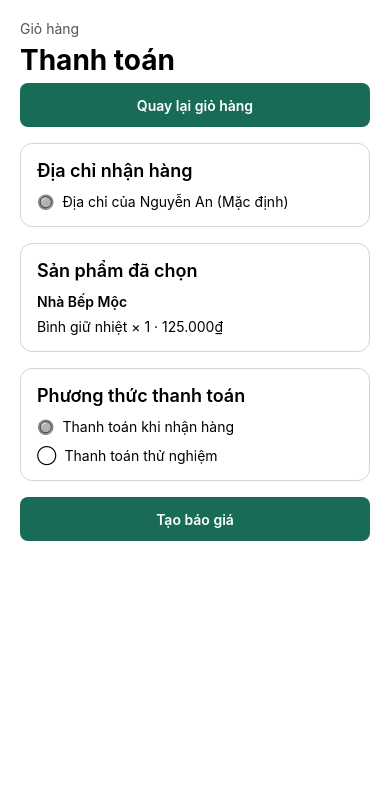
it: B08 PRICE_CHANGED requires an explicit new quote and has no replacement quote
Click the button "Tạo báo giá".
click(195, 519)  # box [20,497,370,541]
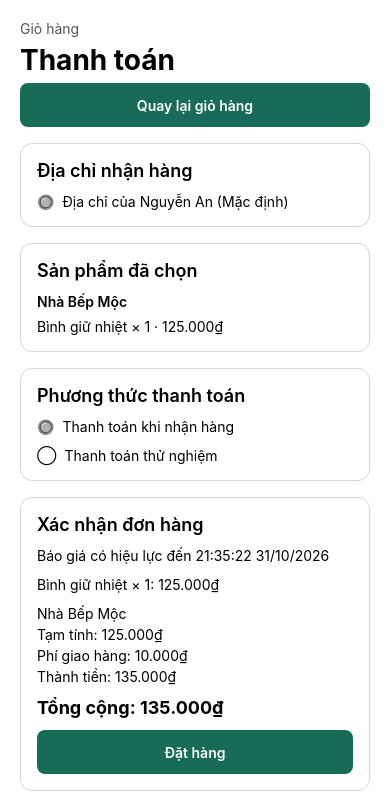
Click the button labelled "Đặt hàng".
click(195, 752)  # box [37,730,353,774]
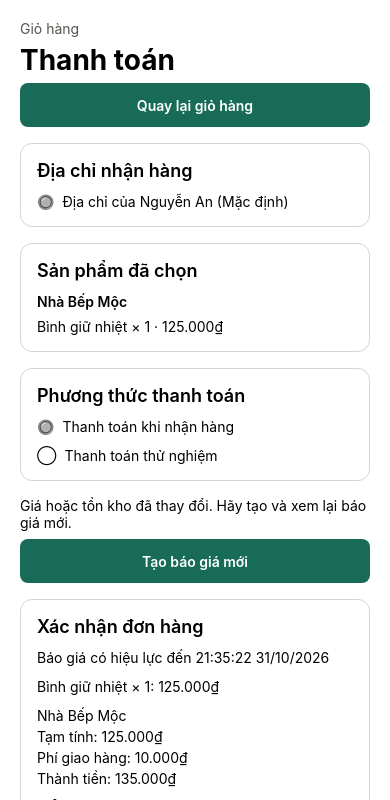
expect the text "Giá hoặc tồn kho đã thay đổi. Hãy tạo và xem lại báo giá mới." is shown: met, box [20,497,370,531]
Click the button "Tạo báo giá mới".
click(195, 561)  # box [20,539,370,583]
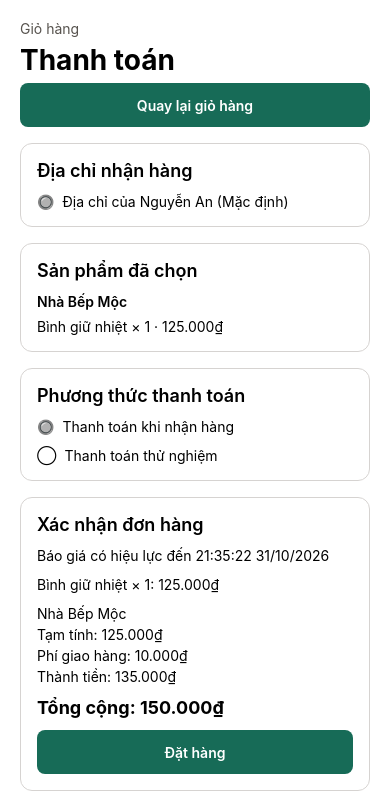
expect the text "Tổng cộng: 150.000₫" is shown: met, box [37,697,224,718]
